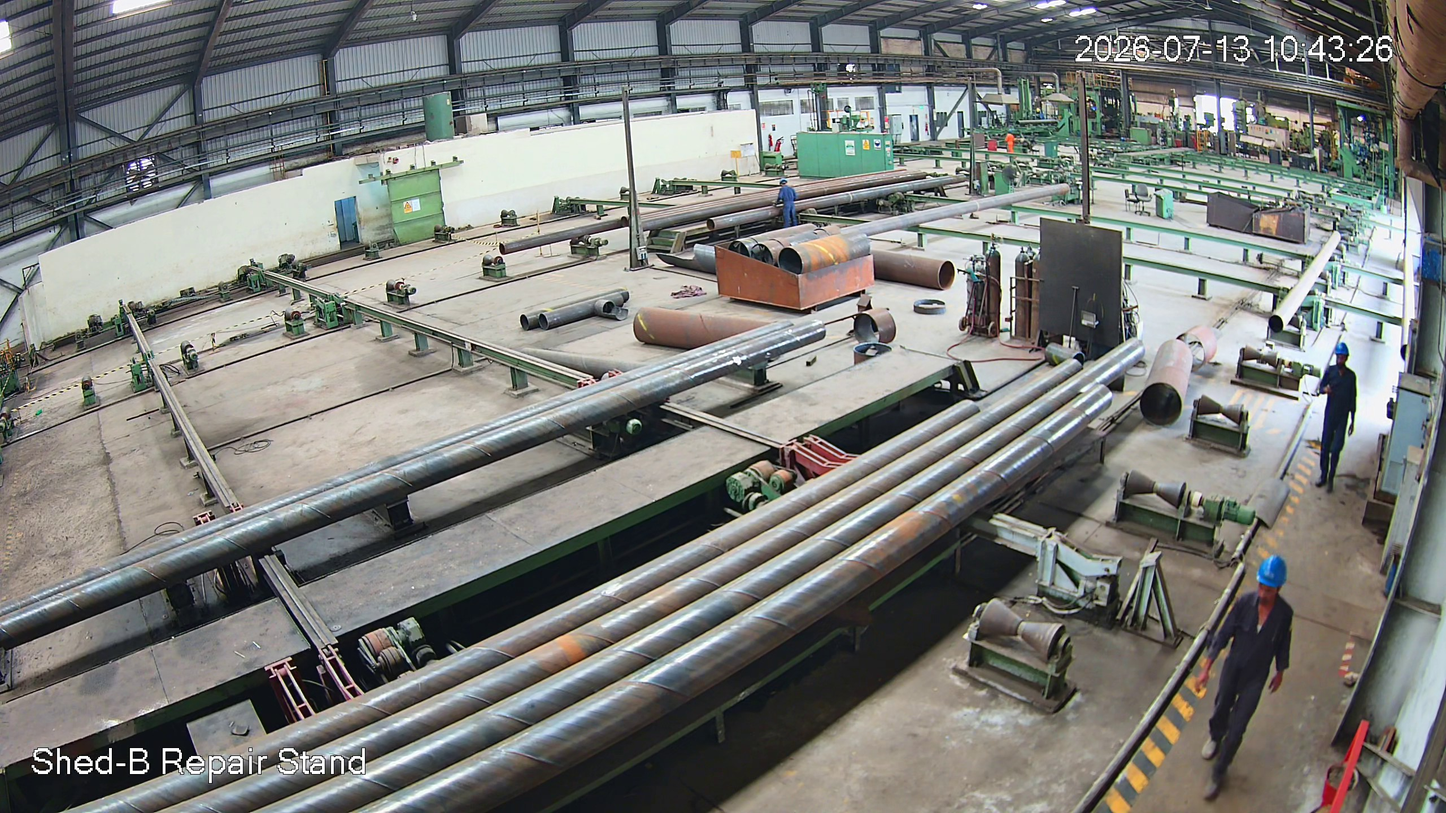Helmet: (1243, 552, 1296, 612), (1331, 340, 1359, 377)
Person: (1189, 556, 1309, 810), (1315, 343, 1364, 499)
